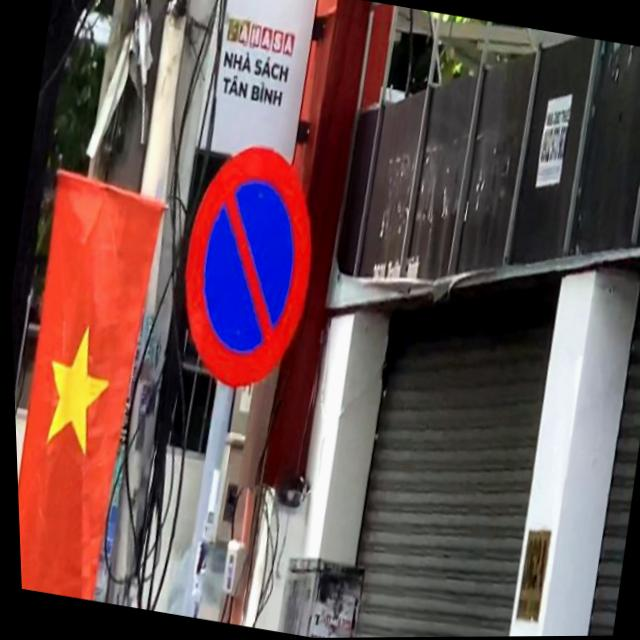Cam do xe: (159, 136, 333, 401)
